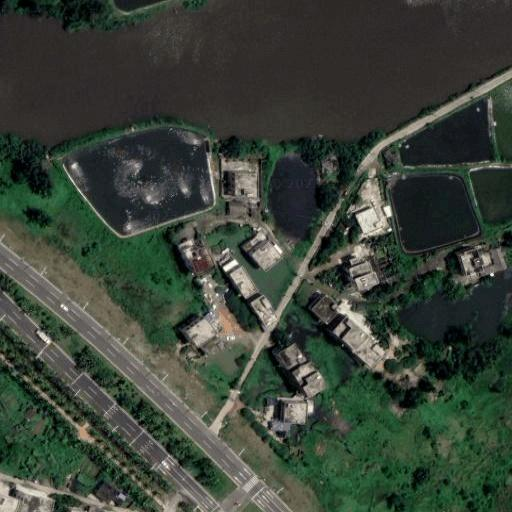building: (178, 235, 222, 280), (291, 359, 327, 400), (334, 318, 370, 352), (251, 241, 285, 275), (188, 318, 219, 349), (230, 266, 258, 300), (12, 486, 47, 512), (279, 341, 309, 371), (356, 206, 384, 236), (252, 297, 279, 328), (358, 339, 387, 367), (235, 170, 261, 200), (459, 248, 485, 277), (313, 298, 339, 324), (93, 481, 117, 504), (283, 403, 308, 424), (352, 258, 375, 278), (357, 271, 379, 291), (244, 233, 265, 253), (229, 199, 248, 215), (222, 259, 239, 274), (0, 481, 17, 495), (273, 423, 291, 432), (10, 506, 35, 512), (383, 205, 392, 219), (113, 492, 123, 502), (350, 256, 360, 265)
